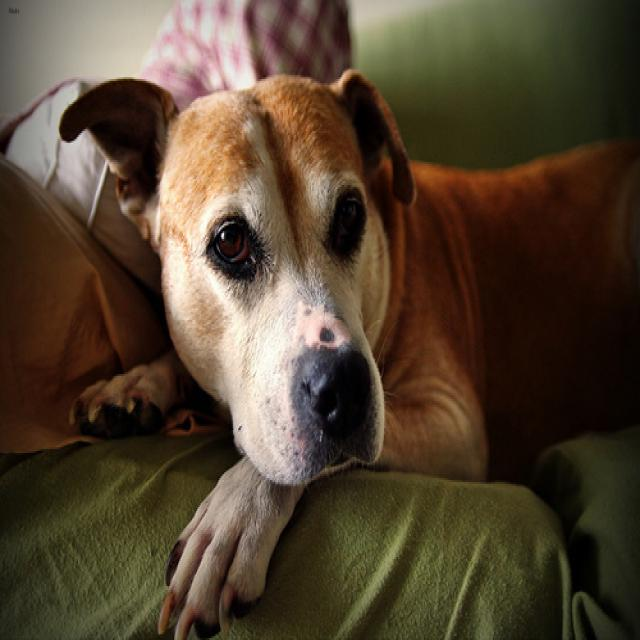dog-american_pit_bull_terrier: (46, 56, 637, 636)
